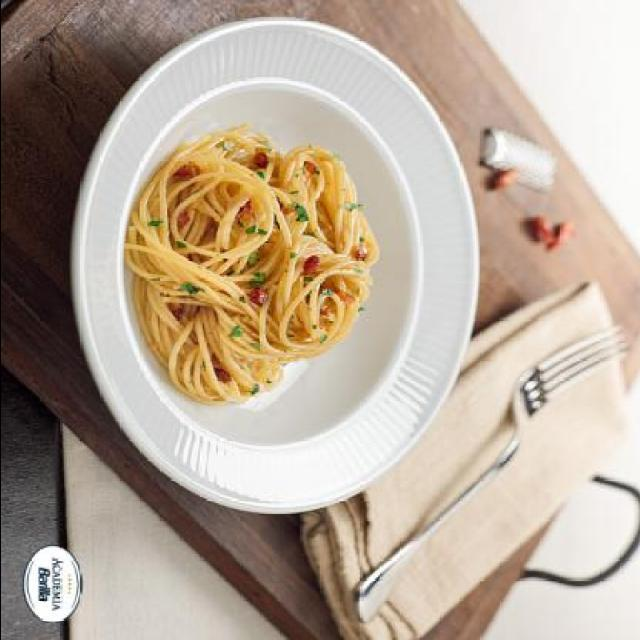Oil pasta: (120, 92, 394, 430)
